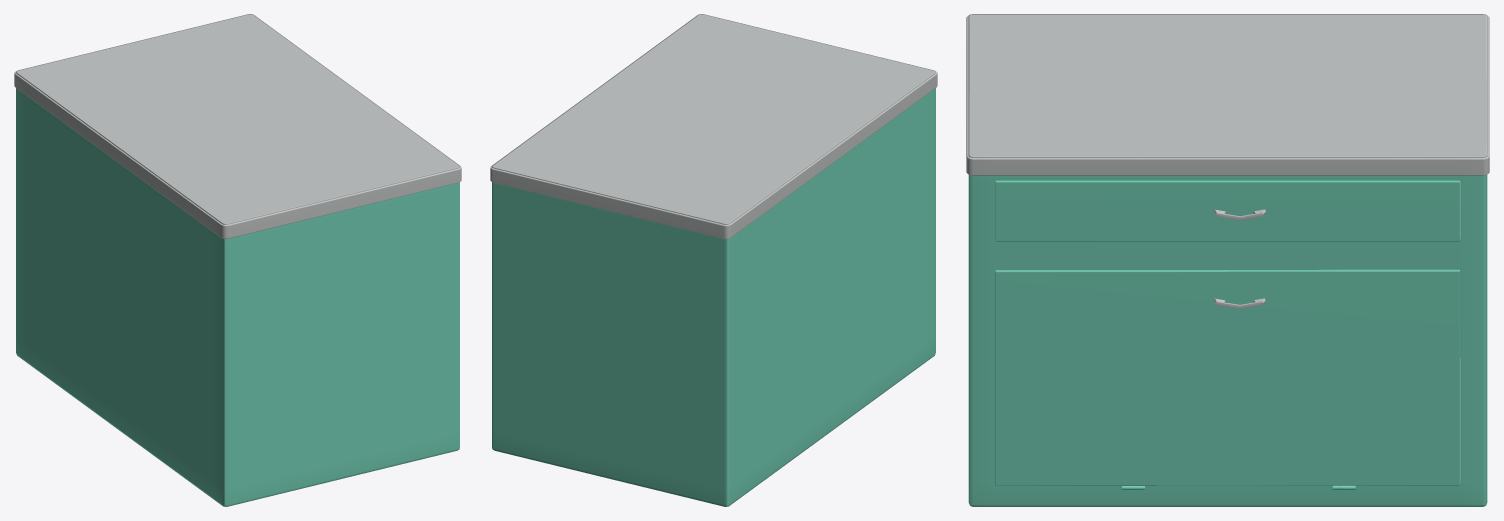
The model's file is Cabinet_Long_GEO.fbx.
The picture shows the model from 3 angles, left to right: view 1: azimuth 30°, elevation 25°; view 2: azimuth 150°, elevation 25°; view 3: azimuth 270°, elevation 25°; orthographic projection. The views are drawn at different scales.
Parts seen in each view (by area): view 1: Cabinet_Body_GEO, Cabinet_Metal_Rim_GEO; view 2: Cabinet_Body_GEO, Cabinet_Metal_Rim_GEO; view 3: Cabinet_Body_GEO, CabinetBottomDrawer_GEO, TopDrawer_GEO, Cabinet_Metal_Rim_GEO.
Part boxes in pixels (x1,y1,x2,y2): Cabinet_Body_GEO: [16, 14, 459, 506]; Cabinet_Metal_Rim_GEO: [14, 16, 461, 238]; Cabinet_Body_GEO: [492, 14, 935, 506]; Cabinet_Metal_Rim_GEO: [490, 16, 937, 238]; Cabinet_Body_GEO: [968, 14, 1487, 506]; CabinetBottomDrawer_GEO: [995, 269, 1460, 490]; TopDrawer_GEO: [995, 180, 1460, 241]; Cabinet_Metal_Rim_GEO: [966, 15, 1489, 175].
Bounding box in the file's own units: 11.63 × 12.84 × 17.32.
Materials: 1 (1 with a texture image).
